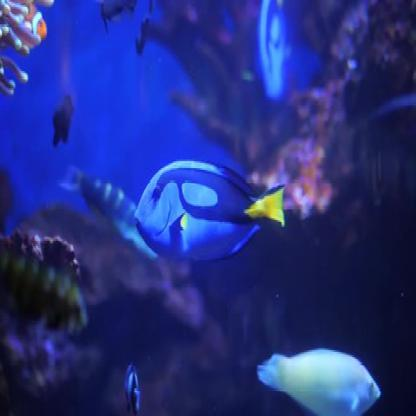Acanthuridae -Surgeonfishes-: (135, 155, 287, 263)
